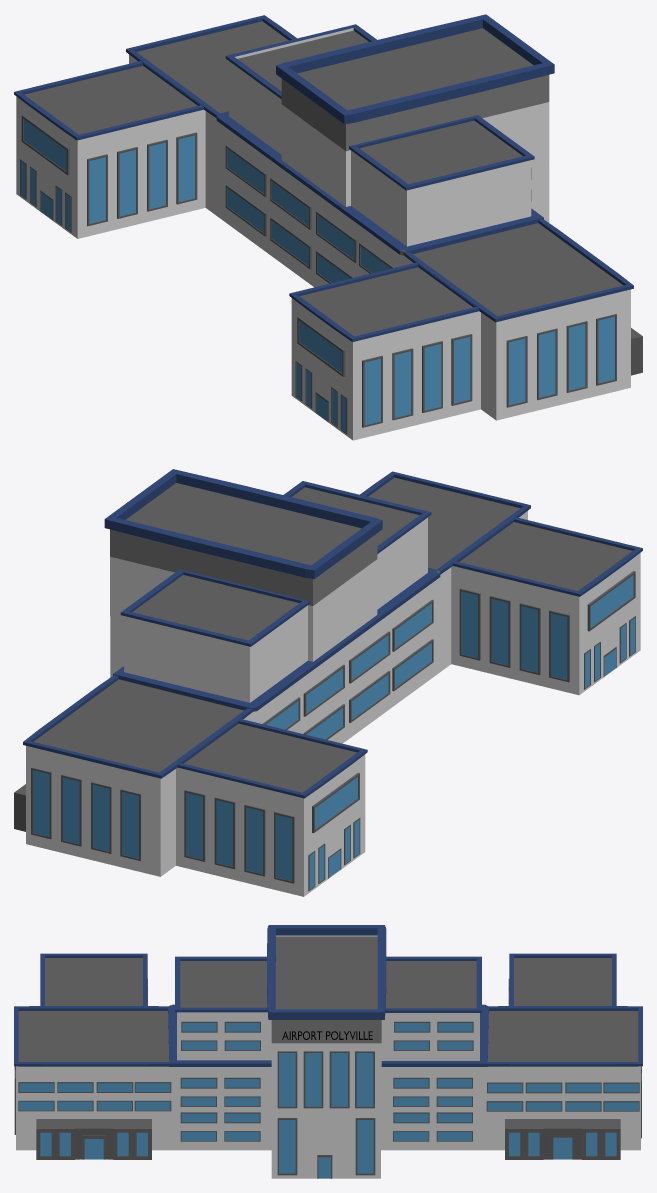
File: Building_AirportMain.fbx
The picture shows the model from 3 angles, top to bottom: view 1: azimuth 30°, elevation 25°; view 2: azimuth 150°, elevation 25°; view 3: azimuth 270°, elevation 25°; orthographic projection. The views are drawn at different scales.
Visible parts, largest first — view 1: Cube; view 2: Cube; view 3: Cube, Text.
Part boxes in pixels (x1,y1,x2,y2): Cube: (14,14,642,440); Cube: (14,469,642,896); Cube: (14,925,642,1178); Text: (282,1031,372,1039).
Size of the model in its own units: 6943 by 3884 by 13193.
